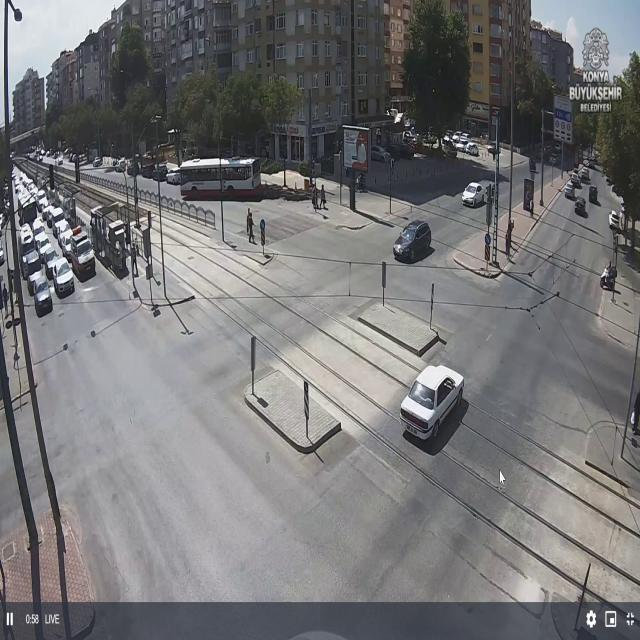Bus: (178, 157, 262, 199)
Car: (396, 367, 469, 441), (389, 218, 433, 267), (52, 257, 75, 299), (34, 277, 52, 317), (460, 180, 485, 207), (25, 260, 43, 294), (58, 228, 73, 259), (44, 248, 57, 279), (372, 146, 392, 164), (19, 228, 34, 250), (166, 166, 182, 185), (34, 234, 50, 250), (574, 196, 586, 217), (608, 210, 620, 230), (465, 142, 480, 156), (587, 185, 599, 202), (570, 172, 583, 187), (564, 182, 576, 198), (91, 157, 103, 168), (459, 132, 472, 142), (580, 168, 589, 182), (451, 131, 461, 141), (455, 141, 464, 151)
Truck: (71, 226, 96, 279)
